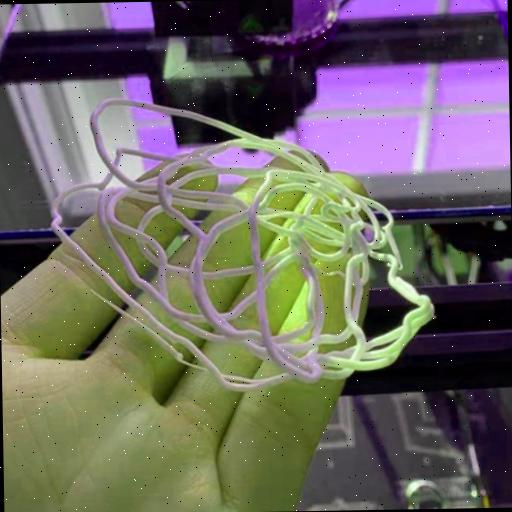spaghetti: (46, 88, 440, 400)
